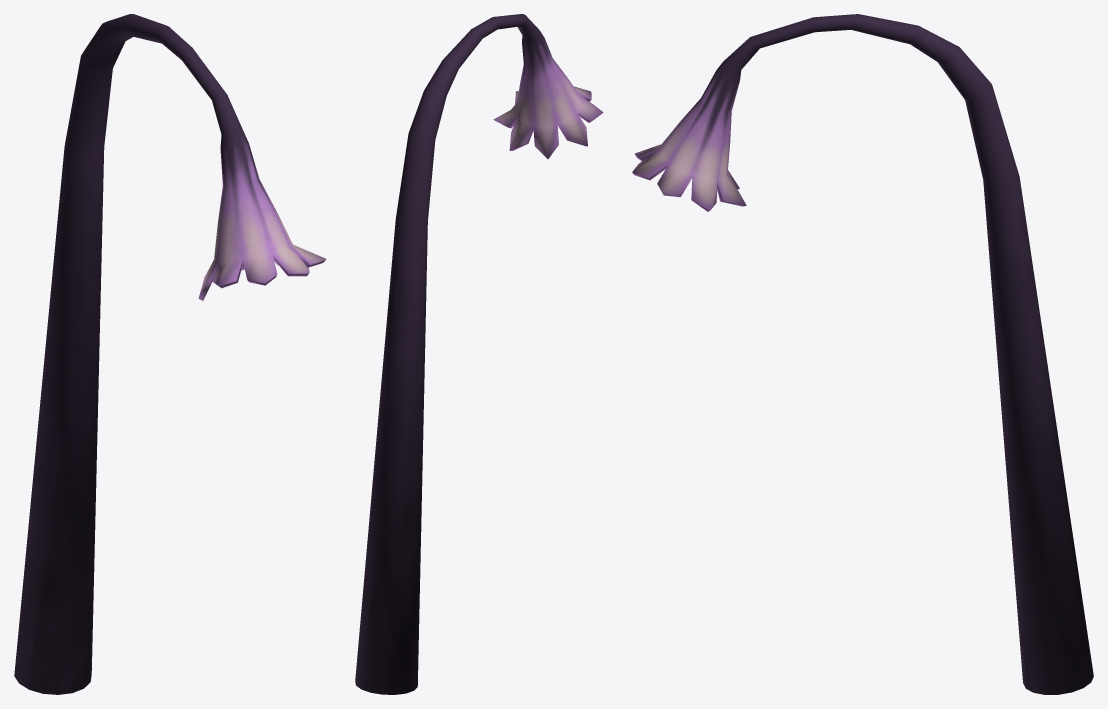
Rendered from Bunga 1.fbx.
3 renders of one model, left to right at view 1: azimuth 30°, elevation 25°; view 2: azimuth 150°, elevation 25°; view 3: azimuth 270°, elevation 25°, orthographic. The views are drawn at different scales.
Visible parts, largest first — view 1: Cylinder; view 2: Cylinder; view 3: Cylinder.
Part boxes in pixels (bbox=[...]): Cylinder: bbox=[14, 14, 326, 694]; Cylinder: bbox=[355, 14, 603, 694]; Cylinder: bbox=[632, 14, 1093, 694].
Bounding box in the file's own units: 9.02 × 56.74 × 35.53.
